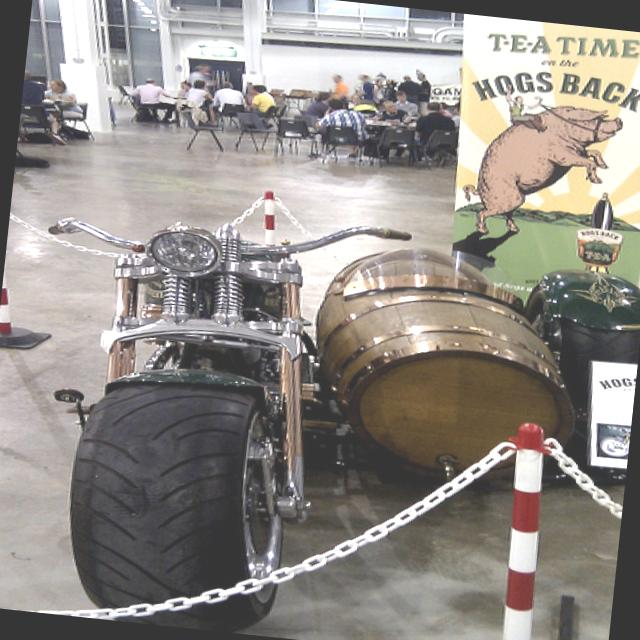Vehicle: (14, 191, 419, 640)
